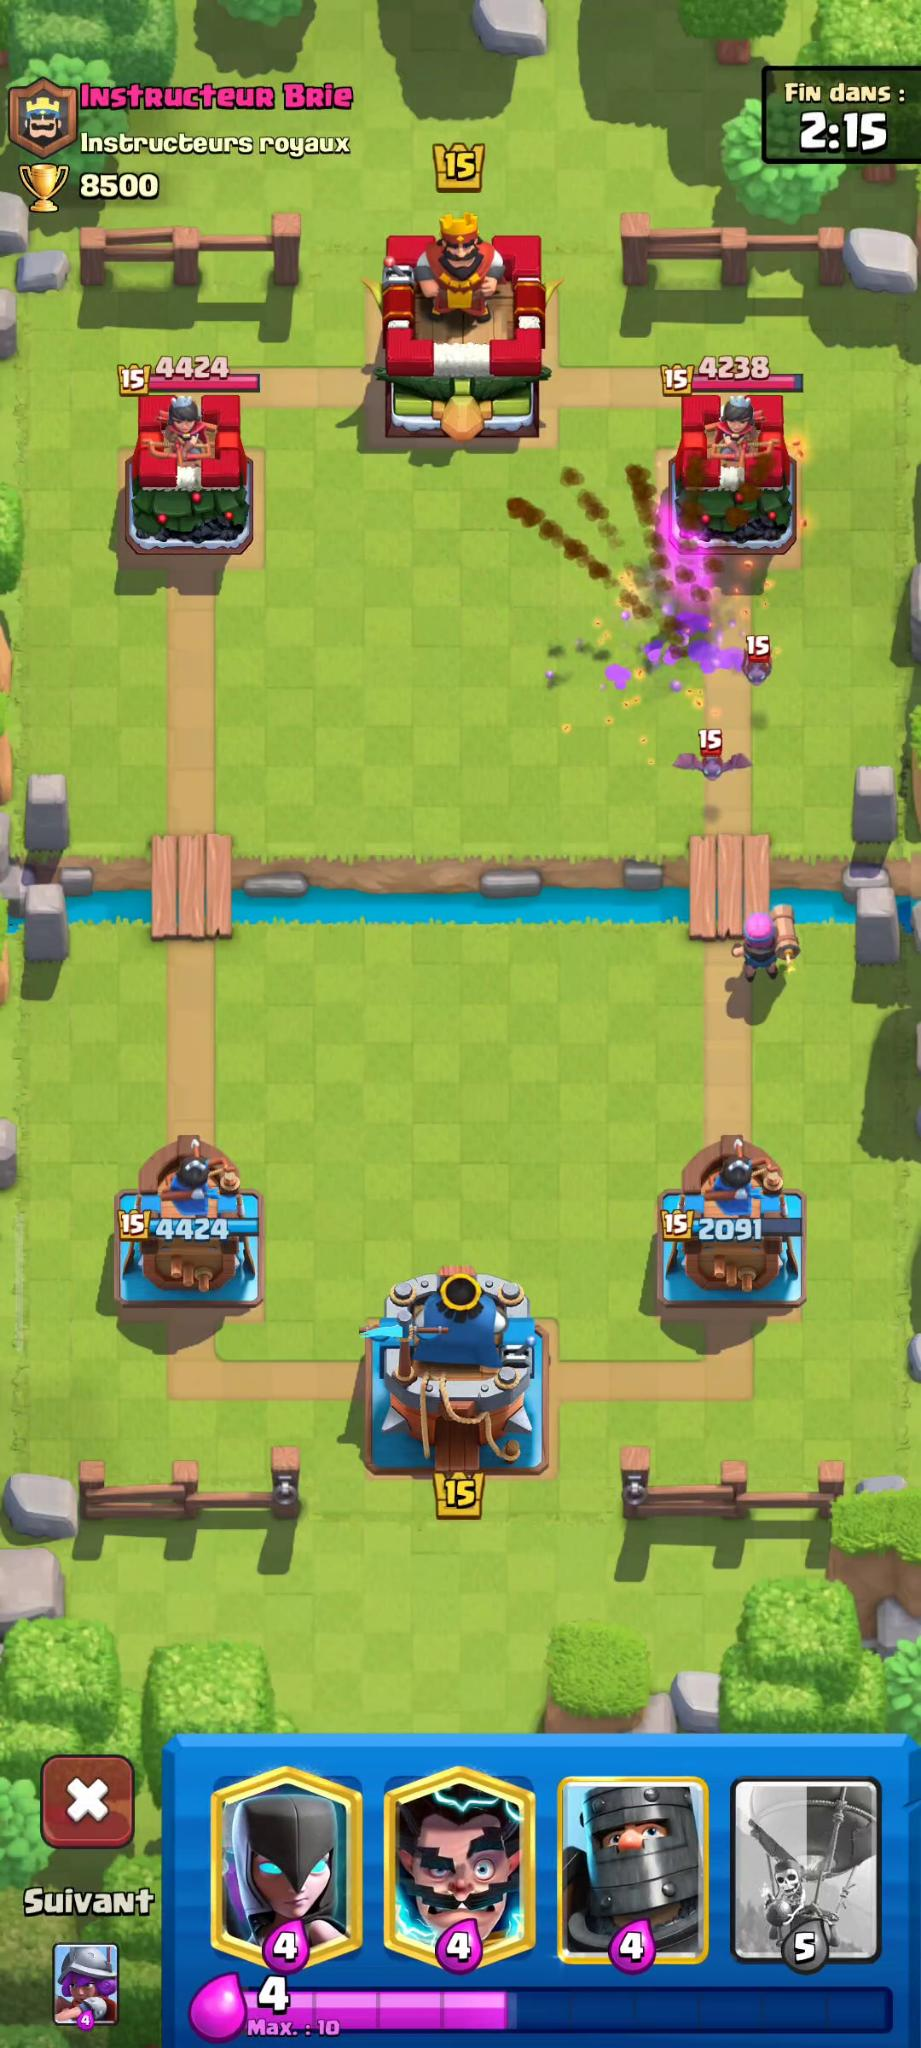bat: (674, 737, 756, 788), (732, 645, 783, 697)
